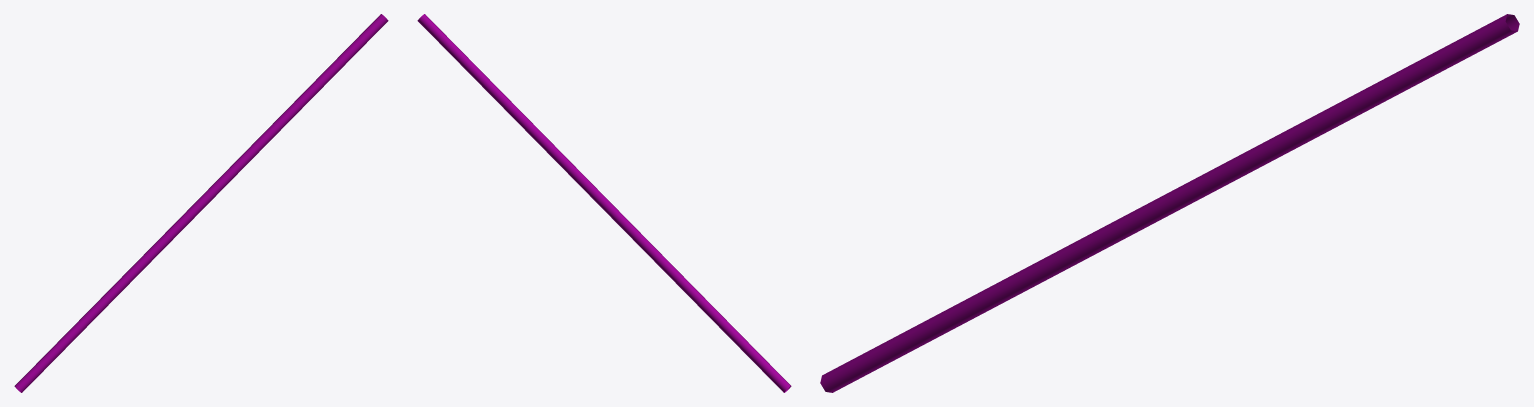
File: Weapon_tross.FBX
3 renders of one model, left to right at view 1: azimuth 30°, elevation 25°; view 2: azimuth 150°, elevation 25°; view 3: azimuth 330°, elevation 25°, orthographic. The views are drawn at different scales.
Visible parts, largest first — view 1: Tross; view 2: Tross; view 3: Tross.
Part boxes in pixels (x1,y1,x2,y2): Tross: (14,14,388,392); Tross: (417,14,791,392); Tross: (820,14,1519,392).
Bounding box in the file's own units: 318 × 237 × 7.02.
